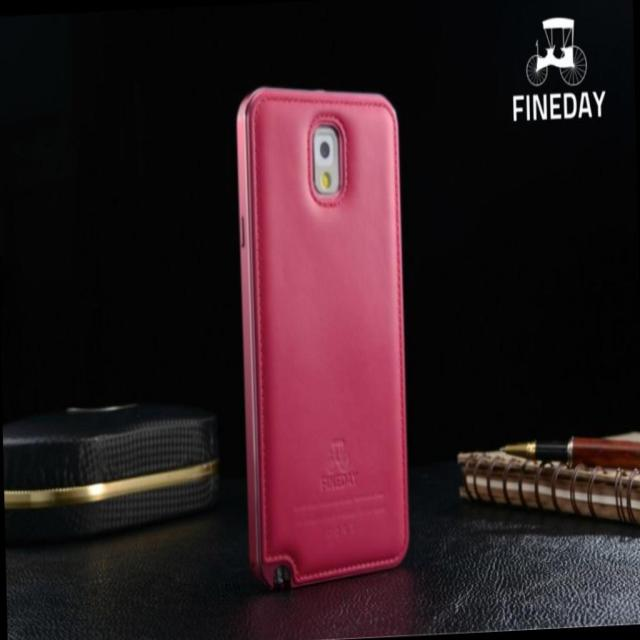handphone: (247, 93, 396, 590)
